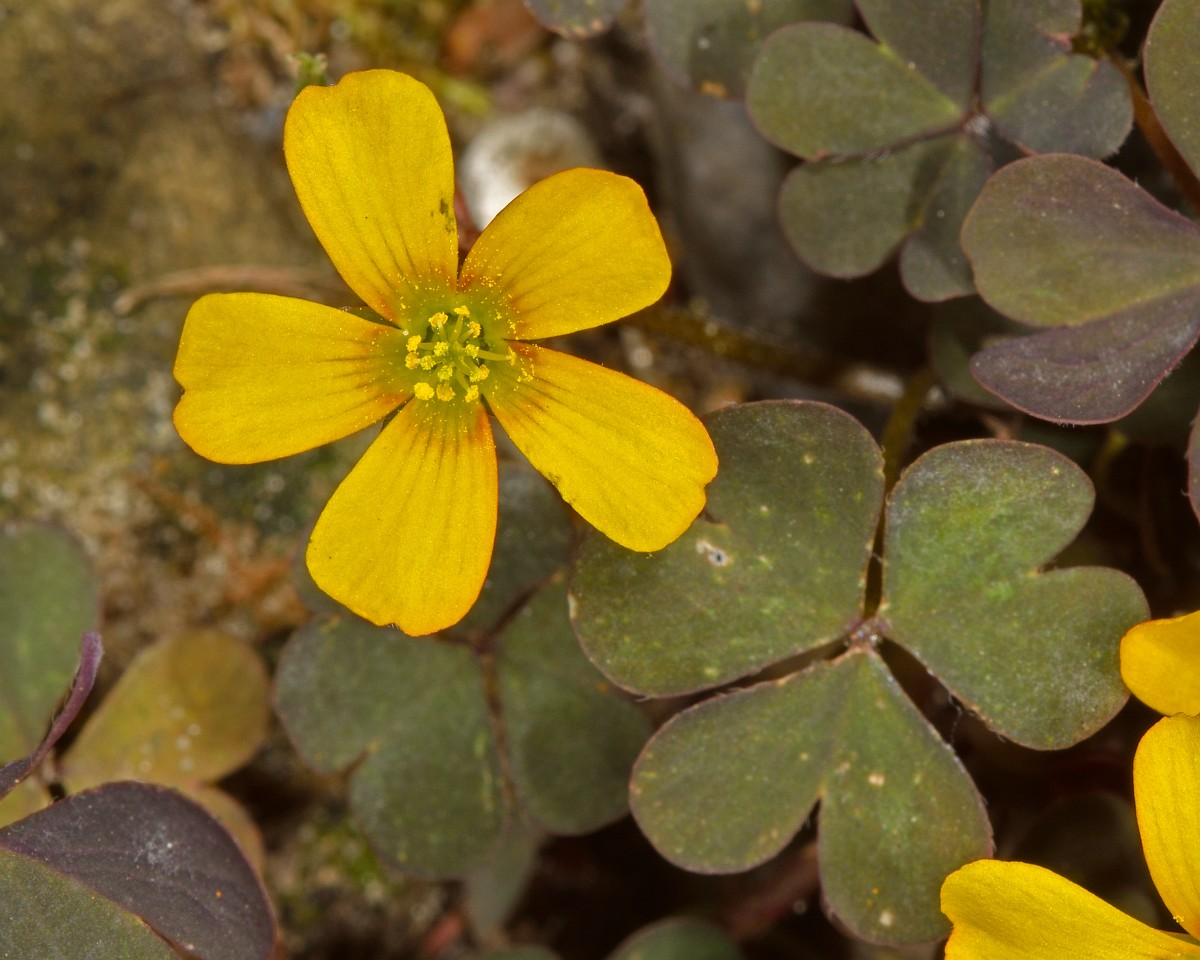oxalis: (272, 78, 1200, 921)
